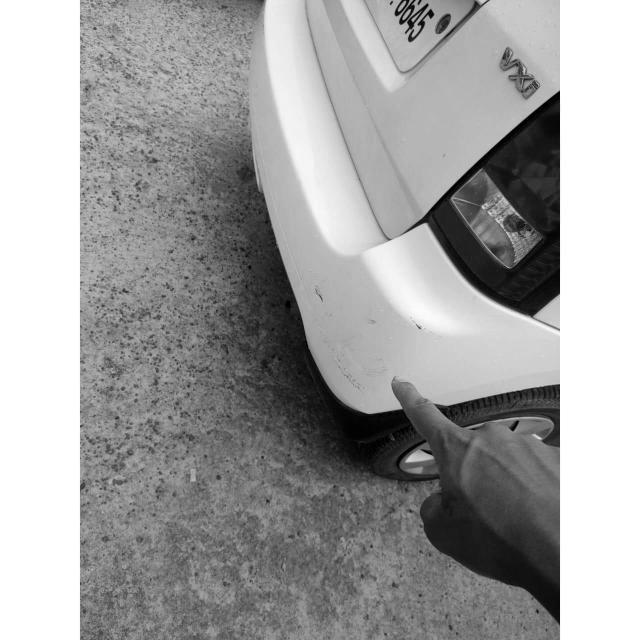rear-bumper-dent: (291, 244, 478, 447)
